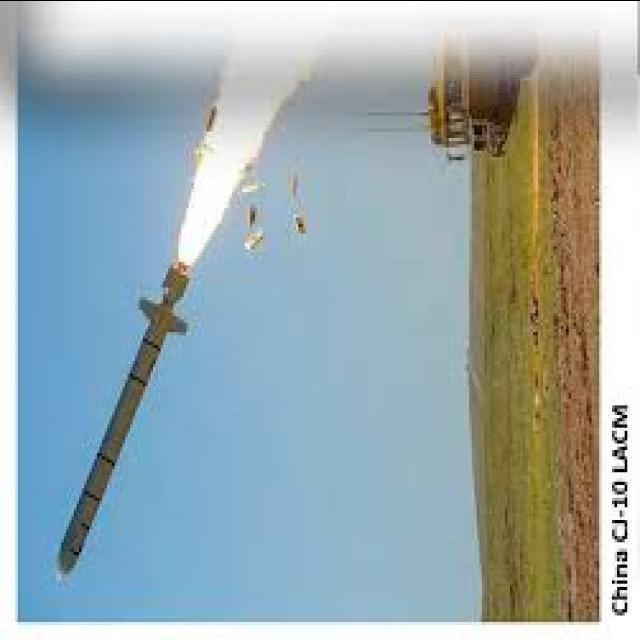missile: (50, 252, 200, 592)
